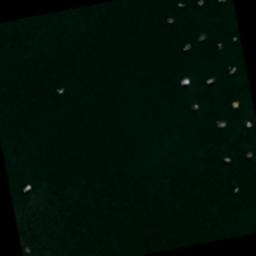boat: (205, 76, 216, 84), (180, 76, 190, 84), (22, 184, 32, 192), (228, 66, 236, 74), (198, 32, 206, 40), (166, 16, 174, 24), (218, 120, 226, 127), (190, 104, 198, 110), (183, 44, 191, 50), (232, 102, 240, 107), (223, 156, 230, 161), (246, 152, 253, 157), (233, 186, 238, 192), (246, 121, 252, 126), (216, 44, 222, 49), (197, 0, 204, 4), (232, 36, 238, 40), (179, 2, 185, 6), (58, 88, 64, 92), (25, 248, 30, 252), (228, 71, 230, 74)
